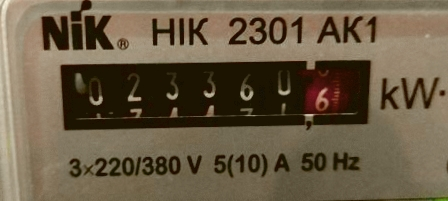0: (83, 73, 105, 107), (274, 66, 292, 97)
2: (121, 69, 145, 104)
3: (159, 69, 181, 101), (198, 67, 218, 98)
6: (234, 69, 255, 102), (310, 83, 331, 112)
screen: (41, 41, 385, 145)
